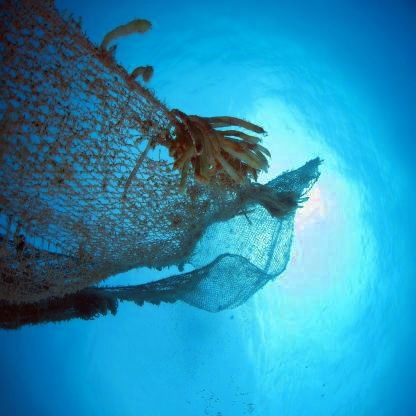net: (0, 21, 318, 313)
